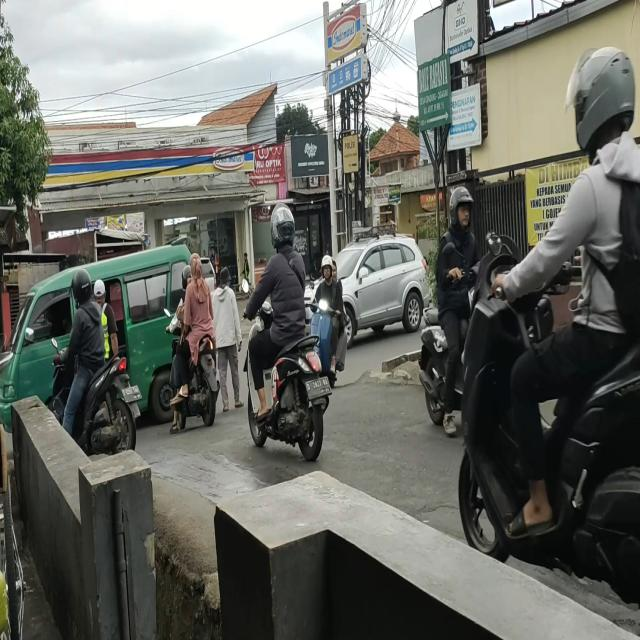helmet: (573, 55, 636, 136), (270, 207, 294, 246), (449, 185, 471, 226), (71, 270, 92, 305), (320, 256, 333, 282), (181, 265, 191, 287)
no-helmet: (189, 254, 203, 281)
